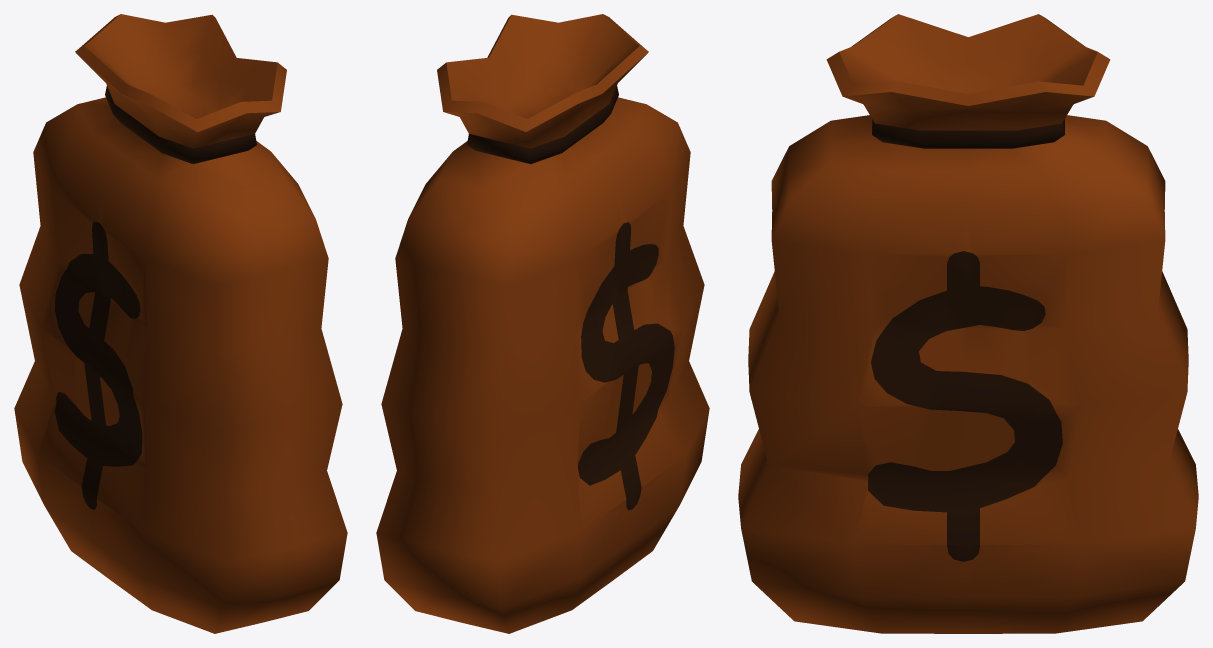
The model's file is bag 'o money body 2obj.obj.
3 renders of one model, left to right at view 1: azimuth 30°, elevation 25°; view 2: azimuth 150°, elevation 25°; view 3: azimuth 270°, elevation 25°, orthographic. The views are drawn at different scales.
Parts seen in each view (by area): view 1: Bag_o'_Money.001; view 2: Bag_o'_Money.001; view 3: Bag_o'_Money.001.
Boxes of the visible parts, bbox=[...] form: Bag_o'_Money.001: bbox=[14, 14, 347, 633]; Bag_o'_Money.001: bbox=[376, 14, 709, 633]; Bag_o'_Money.001: bbox=[738, 14, 1198, 633].
Bounding box in the file's own units: 0.5011 × 1.34 × 1.01.
